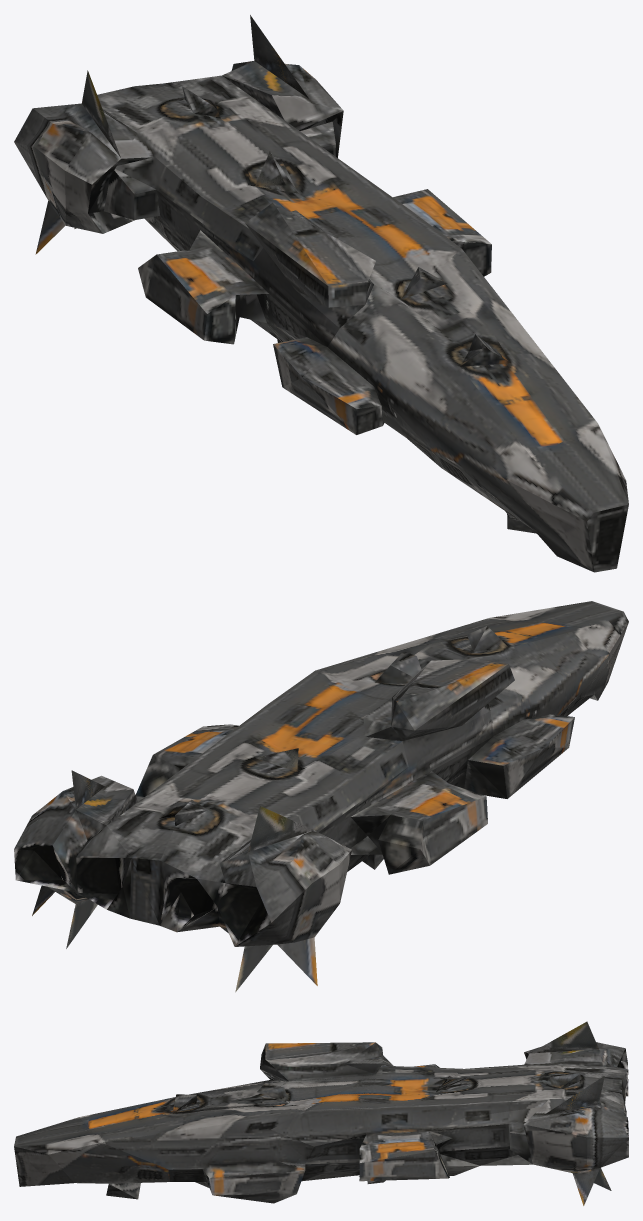
The model's file is hard-500.glb.
3 renders of one model, top to bottom at view 1: azimuth 30°, elevation 25°; view 2: azimuth 150°, elevation 25°; view 3: azimuth 270°, elevation 25°, orthographic. The views are drawn at different scales.
Parts seen in each view (by area): view 1: Low; view 2: Low; view 3: Low.
Boxes of the visible parts, <box> form: Low: <box>14,15,628,572</box>; Low: <box>14,601,628,992</box>; Low: <box>14,1021,628,1205</box>.
Size of the model in its own units: 0.3447 by 0.2596 by 0.9711.
Materials: 1 (1 with a texture image).
